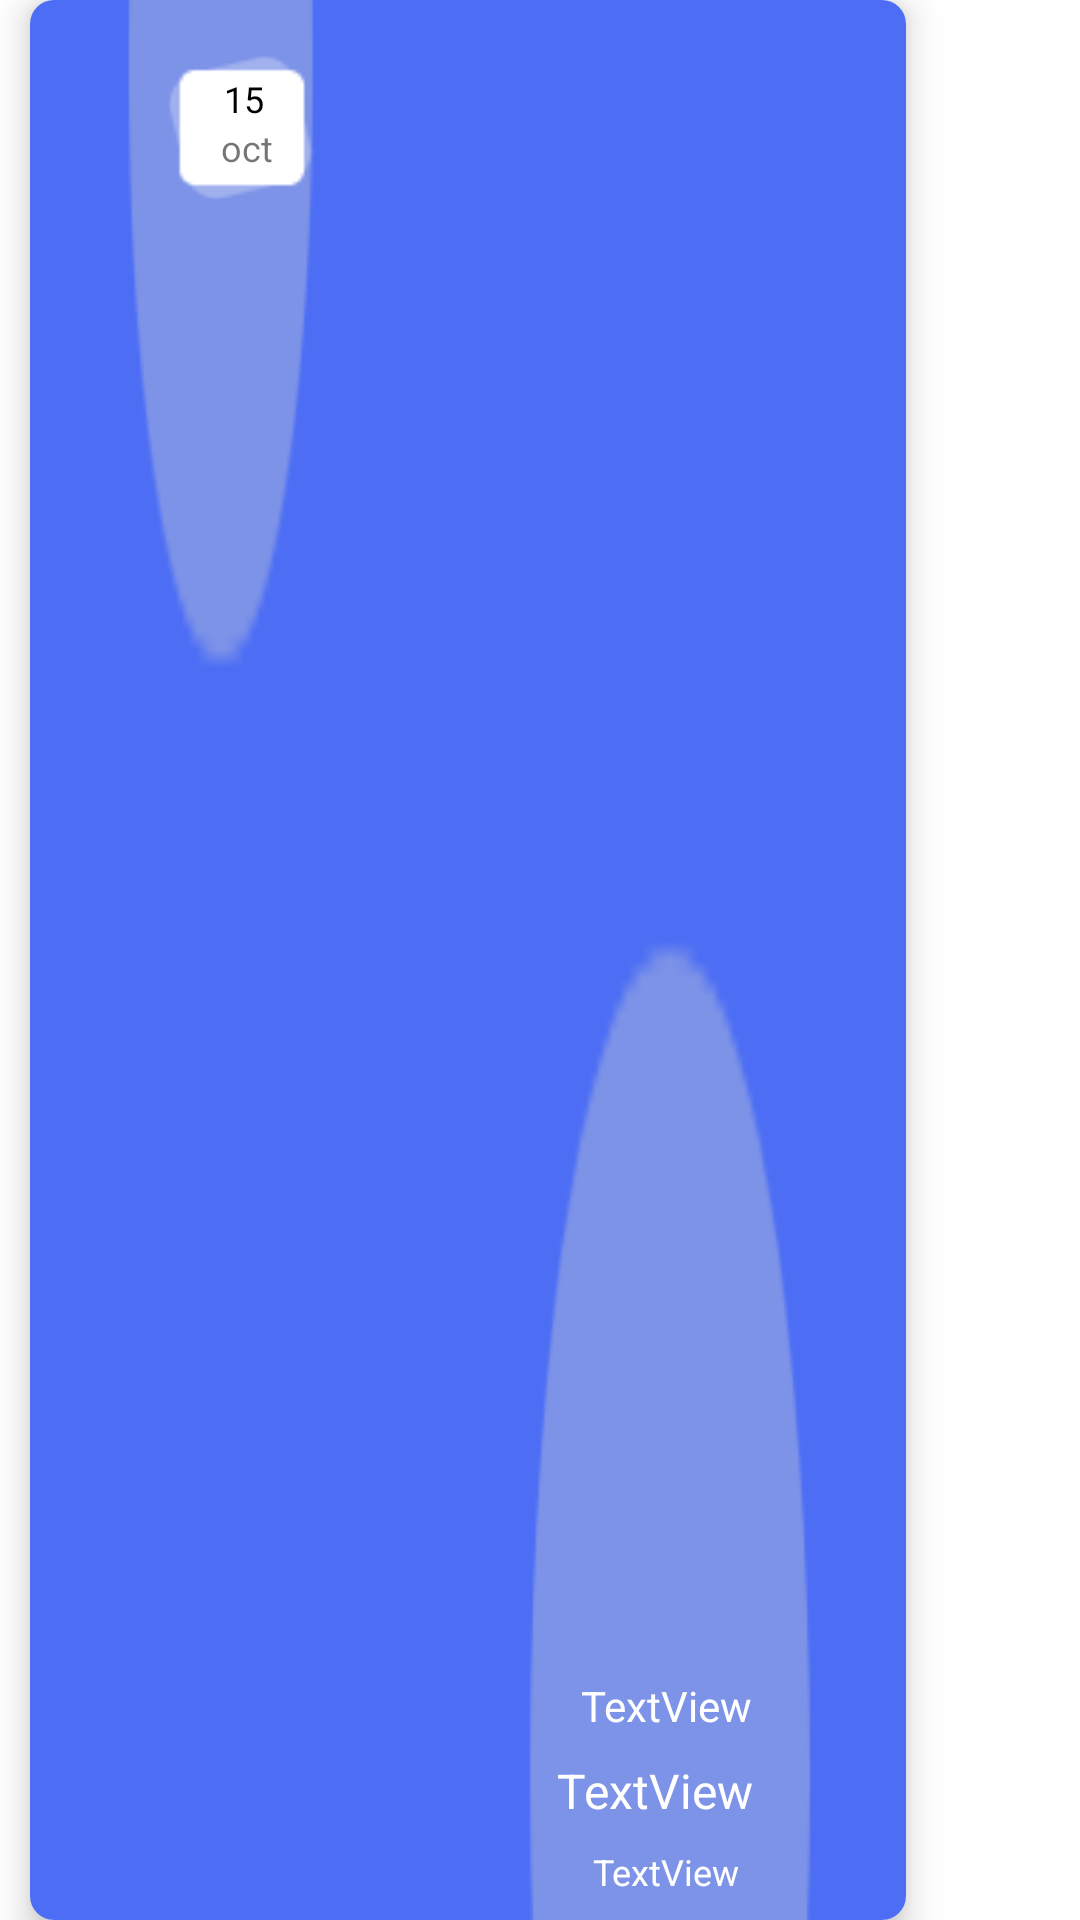

Where to tap for icons on this 1080 x 1920 app screen, as [x,y]:
icon date: [240,127]
